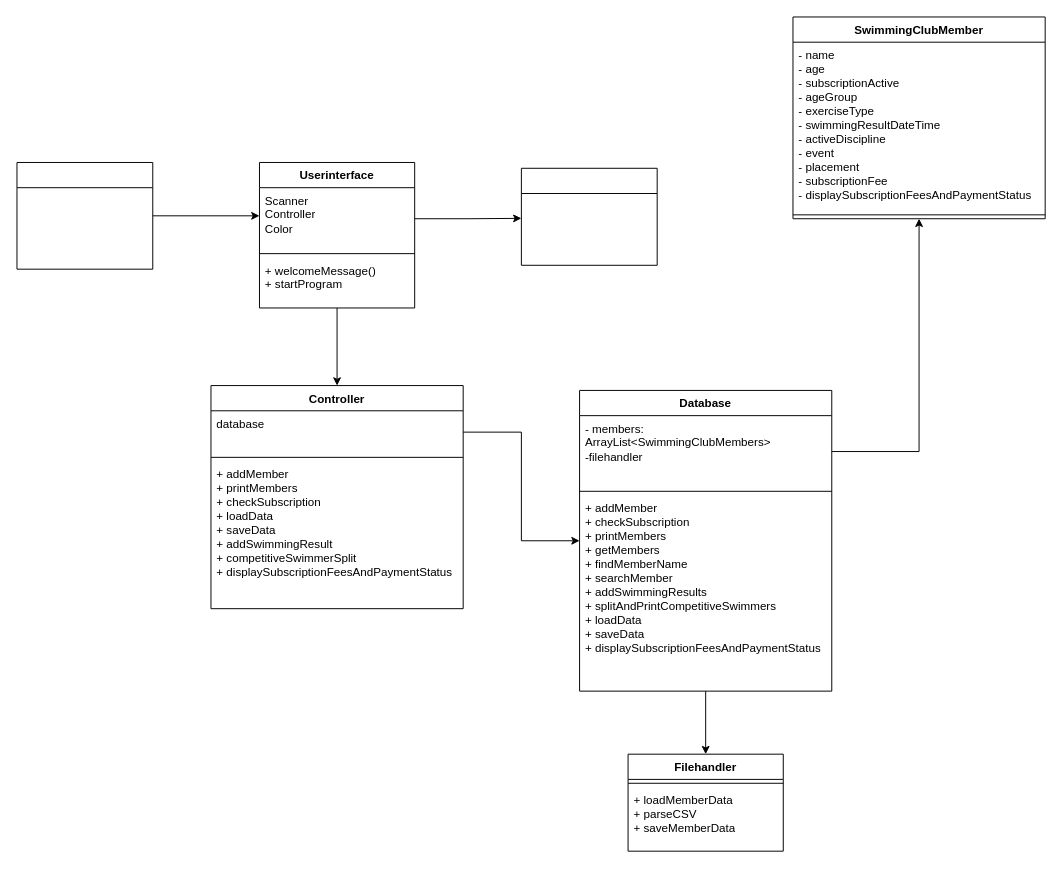
The diagram is 1062 pixels wide and 871 high, and some of its shapes have lost their labels. The shapes that lost their labels are listed below. From the top down, each one's centre as x and y in pixels, then its label:
At point (84, 215): "Main".
At point (588, 216): "Color".
